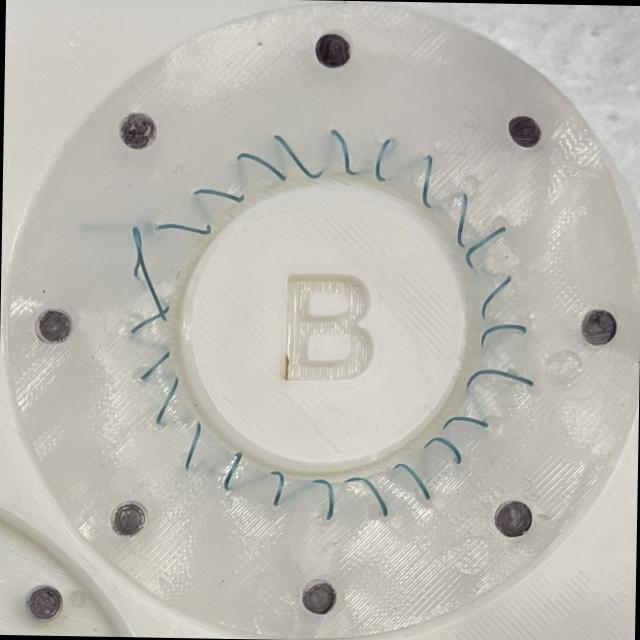suture: (132, 226, 167, 322), (273, 134, 323, 179), (345, 475, 387, 516), (464, 227, 505, 268), (236, 152, 286, 181), (392, 462, 430, 500), (480, 275, 511, 320), (466, 369, 533, 389), (329, 128, 356, 176), (422, 436, 462, 465), (131, 305, 169, 334), (157, 375, 178, 426), (480, 324, 526, 346), (184, 419, 202, 471), (311, 478, 333, 520), (138, 351, 169, 380), (221, 450, 242, 492), (192, 189, 244, 203), (442, 416, 488, 431), (374, 138, 390, 181), (421, 155, 433, 209), (157, 223, 211, 234), (457, 193, 466, 248), (269, 469, 283, 504)
